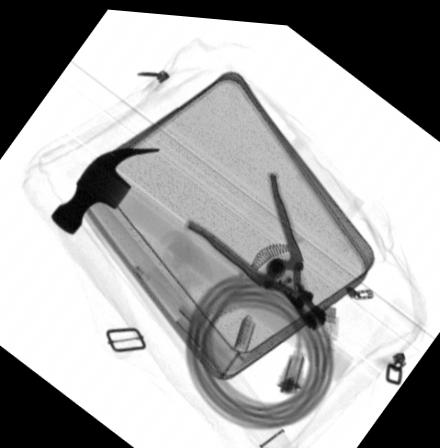Hammer: (49, 145, 351, 376)
Pliers: (182, 166, 329, 324)
